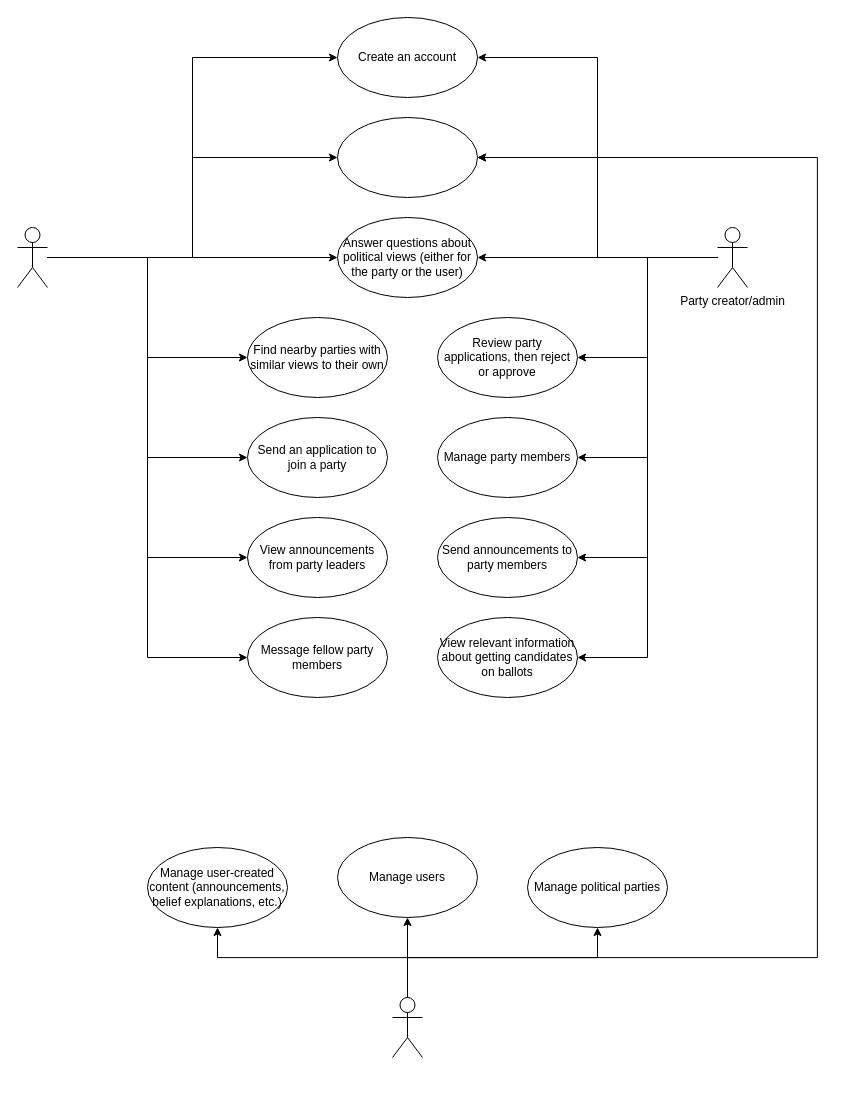
Image size: 843x1096. Some labels were removed from this diagram. Here are the shapes that lost their labels. From the top down, the centre of each, then its label:
[407,157]: Log in
[32,257]: User
[407,1027]: Site admin
